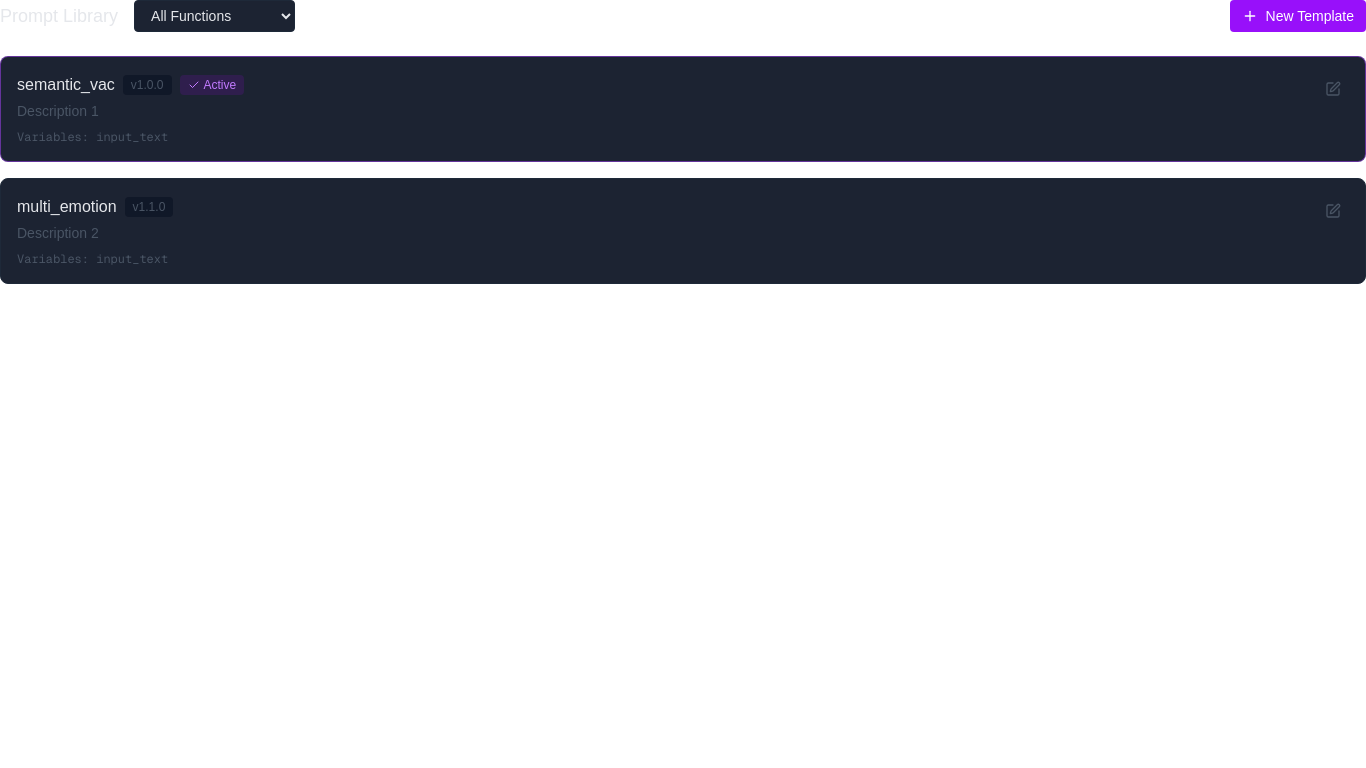
Test case: PromptTemplatesTab › enters edit mode correctly
The width and height of the screenshot is (1366, 768).
Expected: the heading "semantic_vac" is shown, [17,73,115,97]
Click the button with test id "edit-btn-uuid-1" at {"x": 1333, "y": 89}, box [1317,73,1349,105]
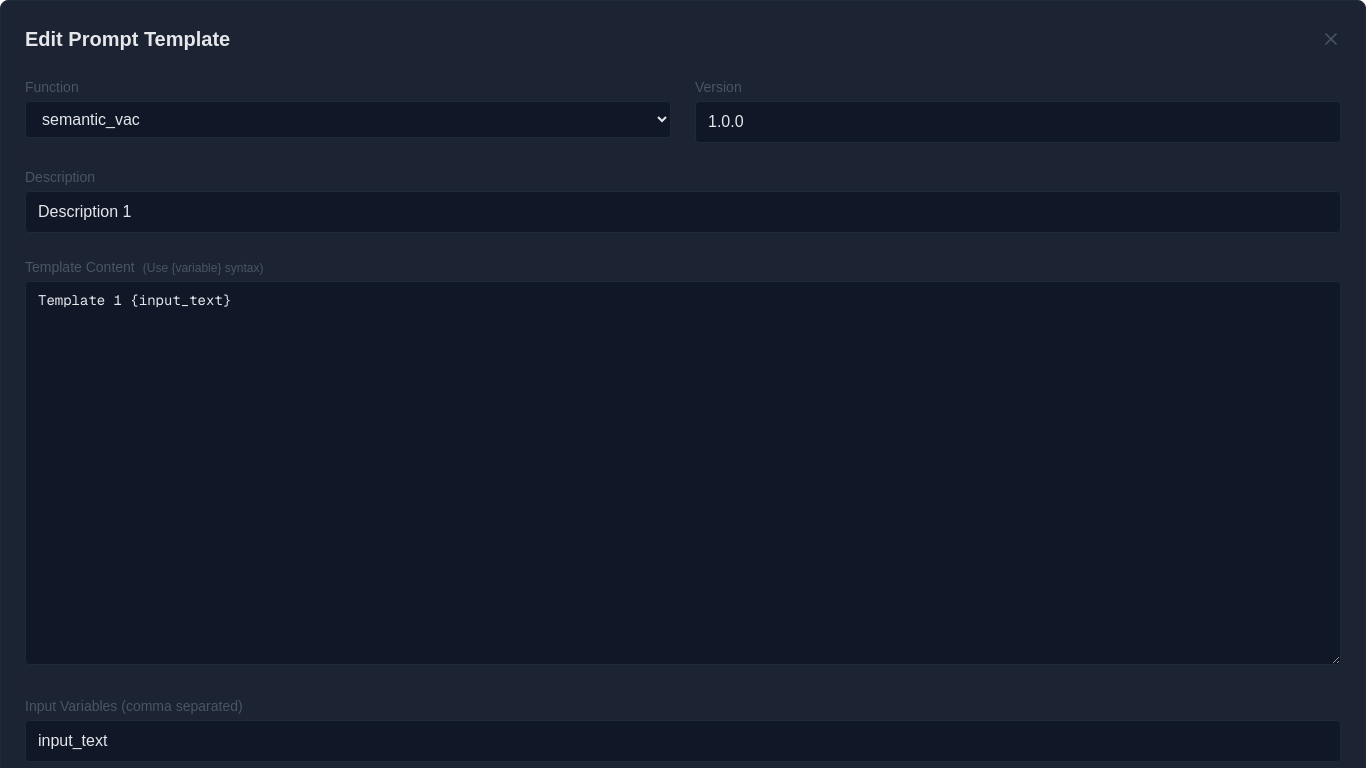
Expected: the heading "Edit Prompt Template" is shown, [25,25,230,53]
Expected: the dropdown labelled "Function" shows "semantic_vac", [25,101,671,138]
Expected: the field labelled "Version" holds "1.0.0", [695,101,1341,143]
